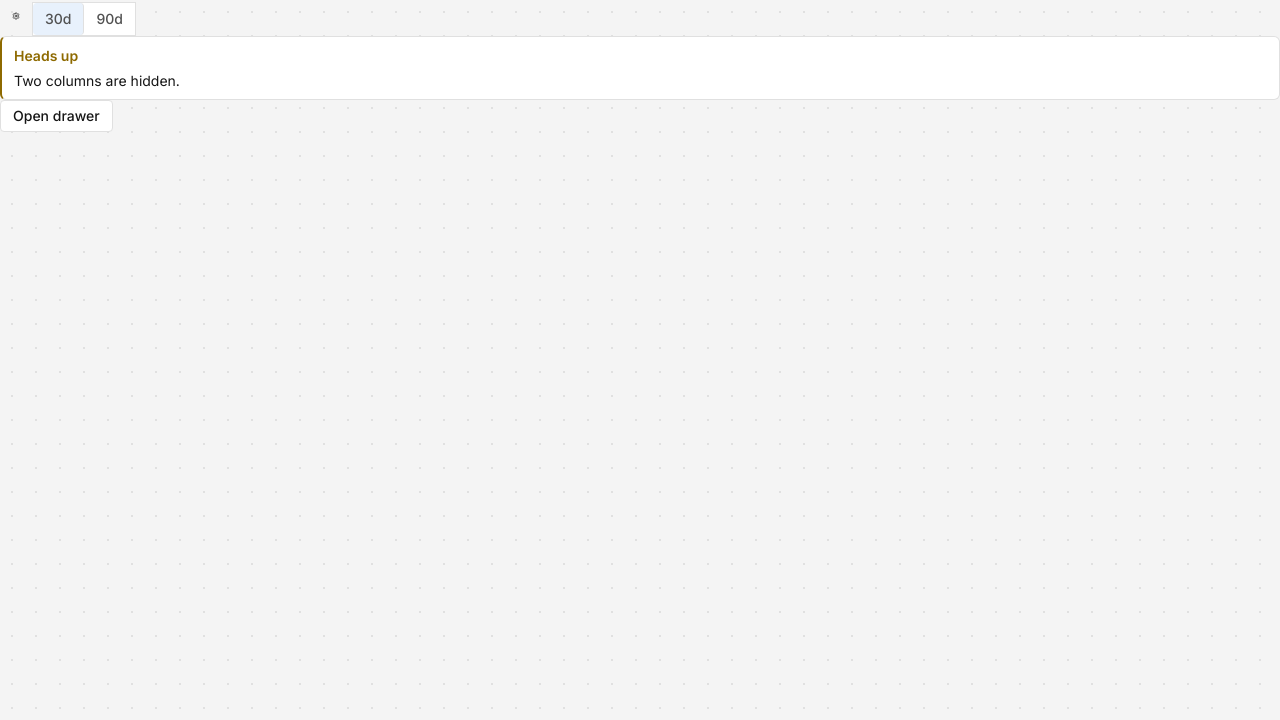
barrel exports the new primitives with their accessible surfaces
Click the button named "Open settings": (16, 16) left=0, top=0, right=32, bottom=32
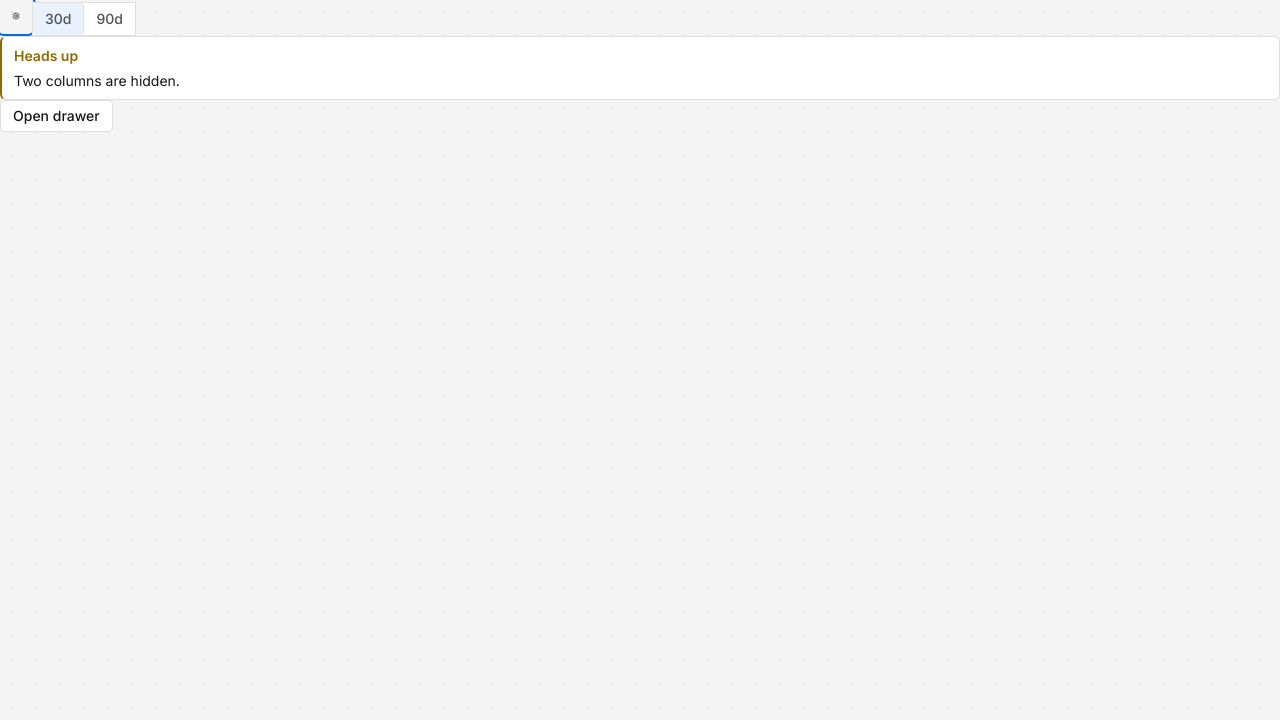
Check: the element named "Range" is shown, box left=32, top=2, right=136, bottom=36
Click the radio button labelled "90d": (110, 18) left=84, top=2, right=135, bottom=34
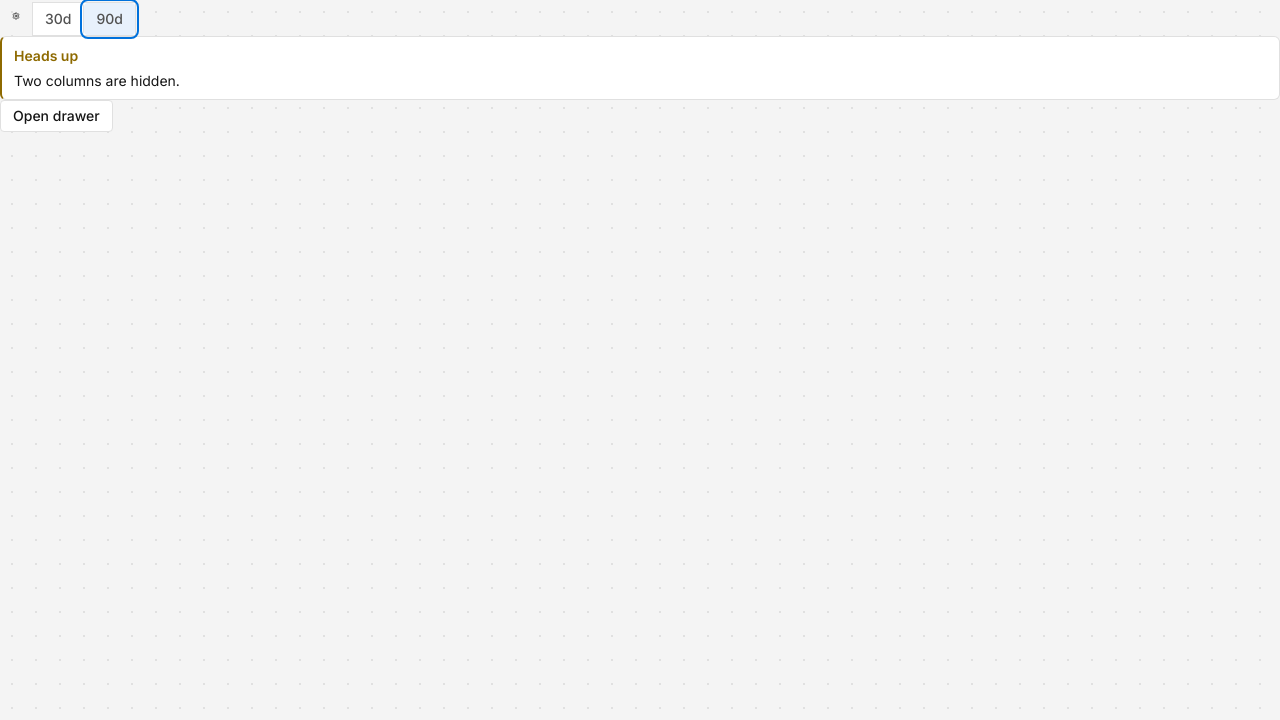
Check: the message shows "Two columns are hidden.", box left=14, top=72, right=180, bottom=88
Click the button "Open drawer": (56, 116) left=0, top=100, right=113, bottom=132
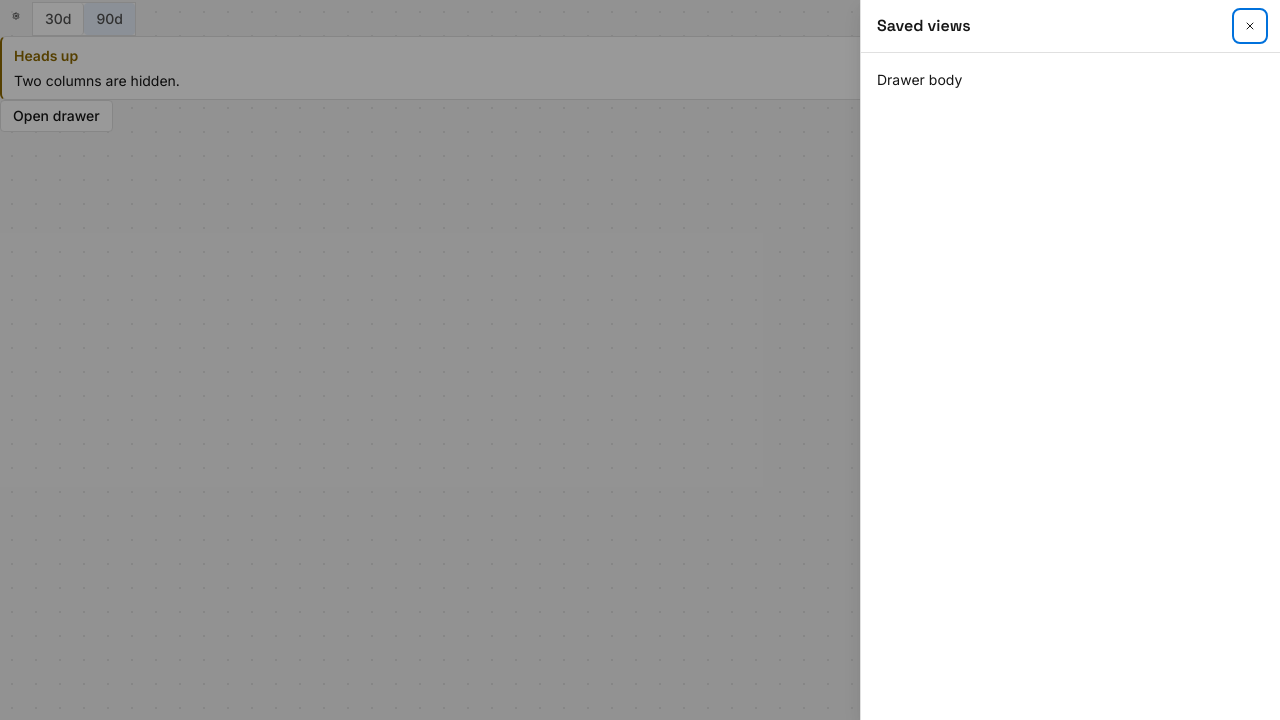
Check: the dialog shows "Saved views", box left=877, top=15, right=971, bottom=36
